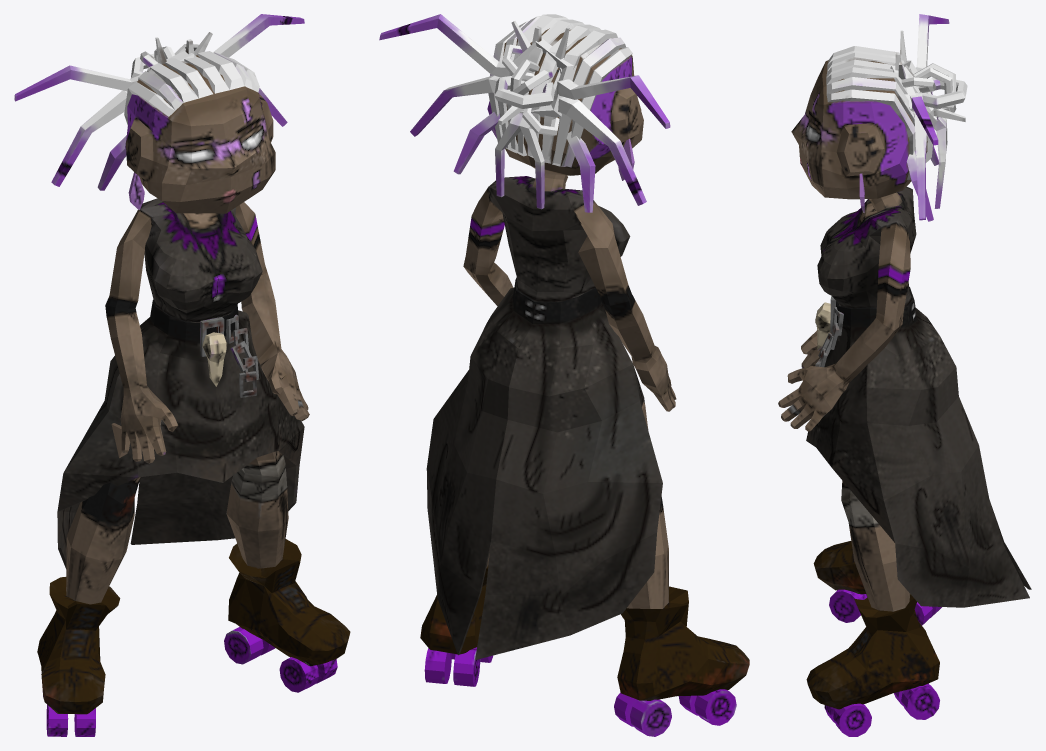
Rendered from bruja_000040.obj.
The picture shows the model from 3 angles, left to right: view 1: azimuth 30°, elevation 25°; view 2: azimuth 150°, elevation 25°; view 3: azimuth 270°, elevation 25°; orthographic projection. The views are drawn at different scales.
Parts seen in each view (by area): view 1: Bruja_Plane.001; view 2: Bruja_Plane.001; view 3: Bruja_Plane.001.
Boxes of the visible parts, x1,y1,x2,y2 form: Bruja_Plane.001: [14, 14, 350, 736]; Bruja_Plane.001: [379, 14, 749, 736]; Bruja_Plane.001: [778, 14, 1031, 736].
Size of the model in its own units: 8.07 by 16.5 by 5.94.
